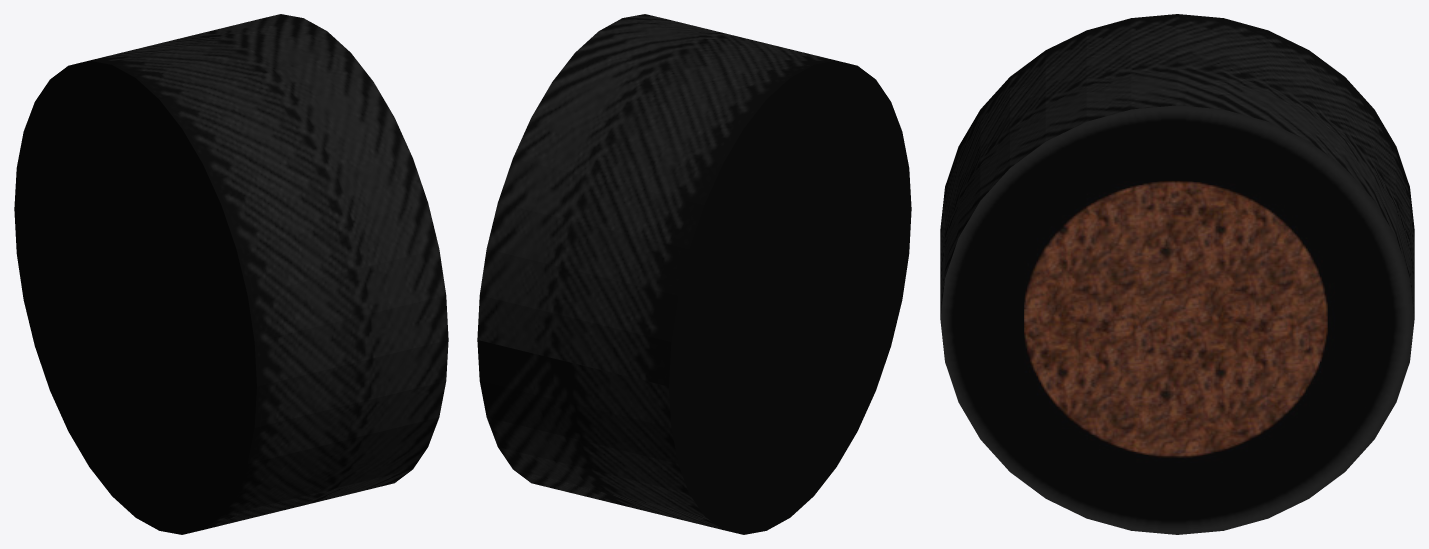
File: mater-tire.glb
3 views of the same model, side by side, from view 1: azimuth 30°, elevation 25°; view 2: azimuth 150°, elevation 25°; view 3: azimuth 270°, elevation 25° (orthographic). The views are drawn at different scales.
Visible parts, largest first — view 1: Cylinder; view 2: Cylinder; view 3: Cylinder.
Part boxes in pixels (bbox=[...]): Cylinder: bbox=[14, 14, 448, 534]; Cylinder: bbox=[477, 14, 911, 534]; Cylinder: bbox=[940, 14, 1414, 534].
Size of the model in its own units: 0.3939 by 0.8638 by 0.8638.
1 material, 1 textured.
